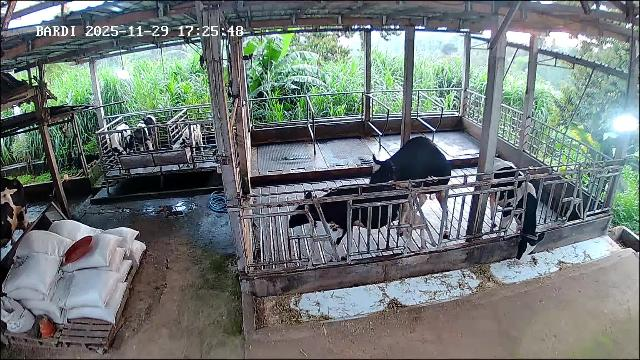mounting: (369, 137, 453, 243)
